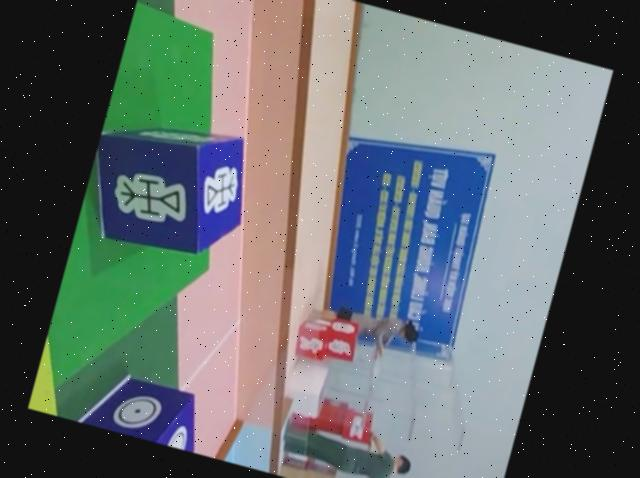R2 Real Blue: (75, 103, 261, 271), (76, 365, 208, 452)
